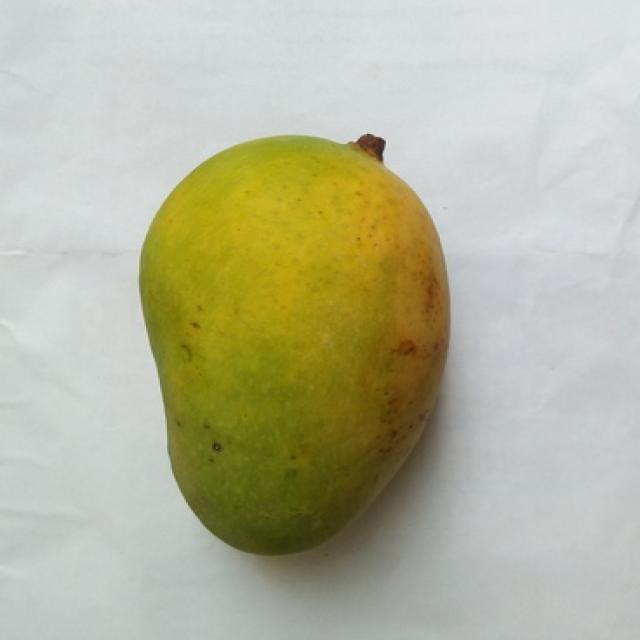Mango: (141, 135, 449, 554)
